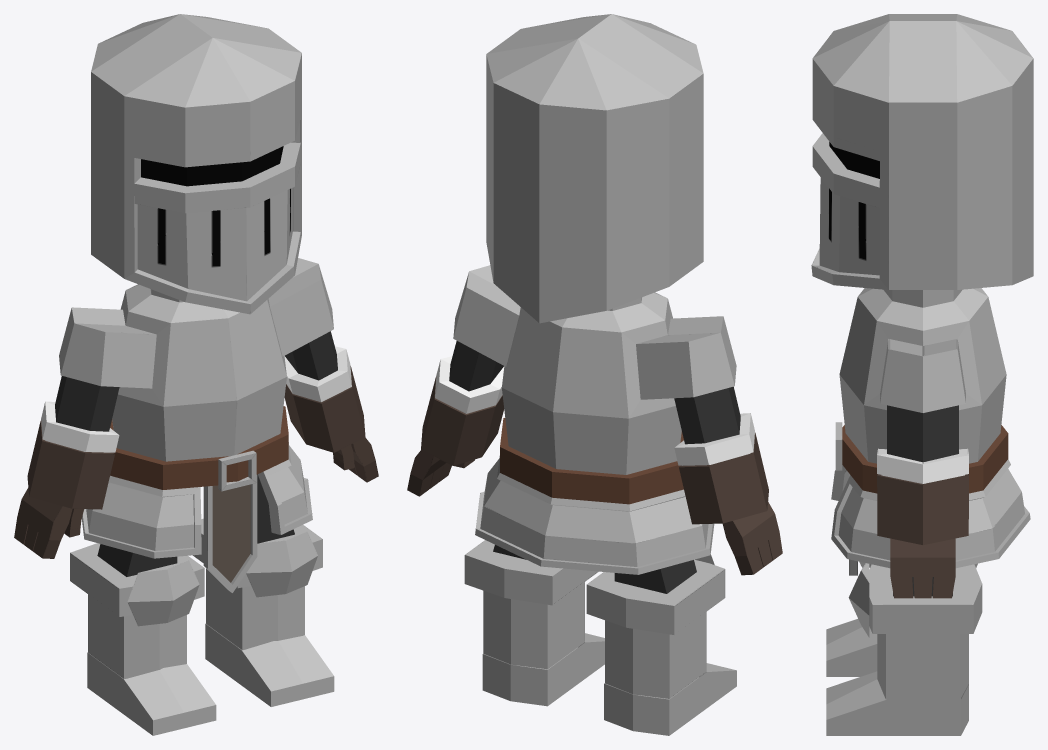
Rendered from MainCharacter.fbx.
The picture shows the model from 3 angles, left to right: view 1: azimuth 30°, elevation 25°; view 2: azimuth 150°, elevation 25°; view 3: azimuth 270°, elevation 25°; orthographic projection. The views are drawn at different scales.
Visible parts, largest first — view 1: Character; view 2: Character; view 3: Character.
Part boxes in pixels (box(x1,y1,x2,y2)): Character: box(14, 14, 378, 735); Character: box(407, 14, 782, 735); Character: box(811, 14, 1033, 735).
Size of the model in its own units: 229 by 425 by 128.
Materials: 9 (9 with a texture image).
